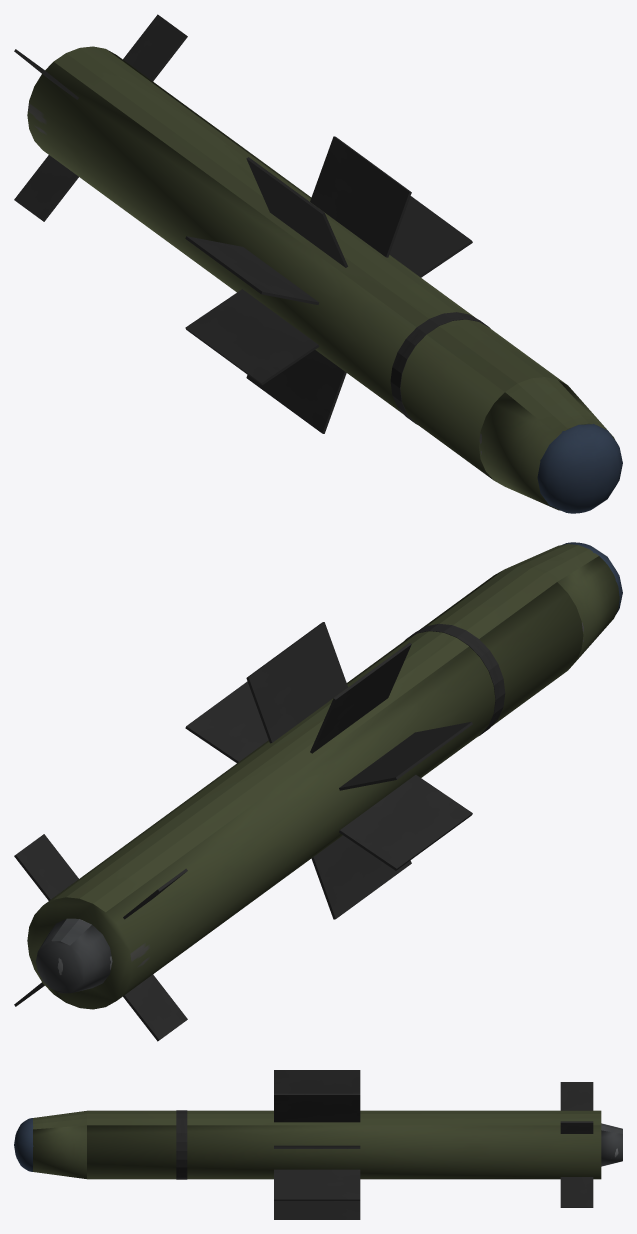
File: javelin_missile.glb
The picture shows the model from 3 angles, top to bottom: view 1: azimuth 30°, elevation 25°; view 2: azimuth 150°, elevation 25°; view 3: azimuth 270°, elevation 25°; orthographic projection. The views are drawn at different scales.
Visible parts, largest first — view 1: JAVELIN_M_Body; view 2: JAVELIN_M_Body; view 3: JAVELIN_M_Body.
Boxes of the visible parts, left/top/right/bottom form: JAVELIN_M_Body: left=14, top=14, right=622, bottom=513; JAVELIN_M_Body: left=14, top=542, right=622, bottom=1041; JAVELIN_M_Body: left=14, top=1070, right=622, bottom=1219.
Size of the model in its own units: 0.2571 by 0.2571 by 1.12.
4 materials, 4 textured.
